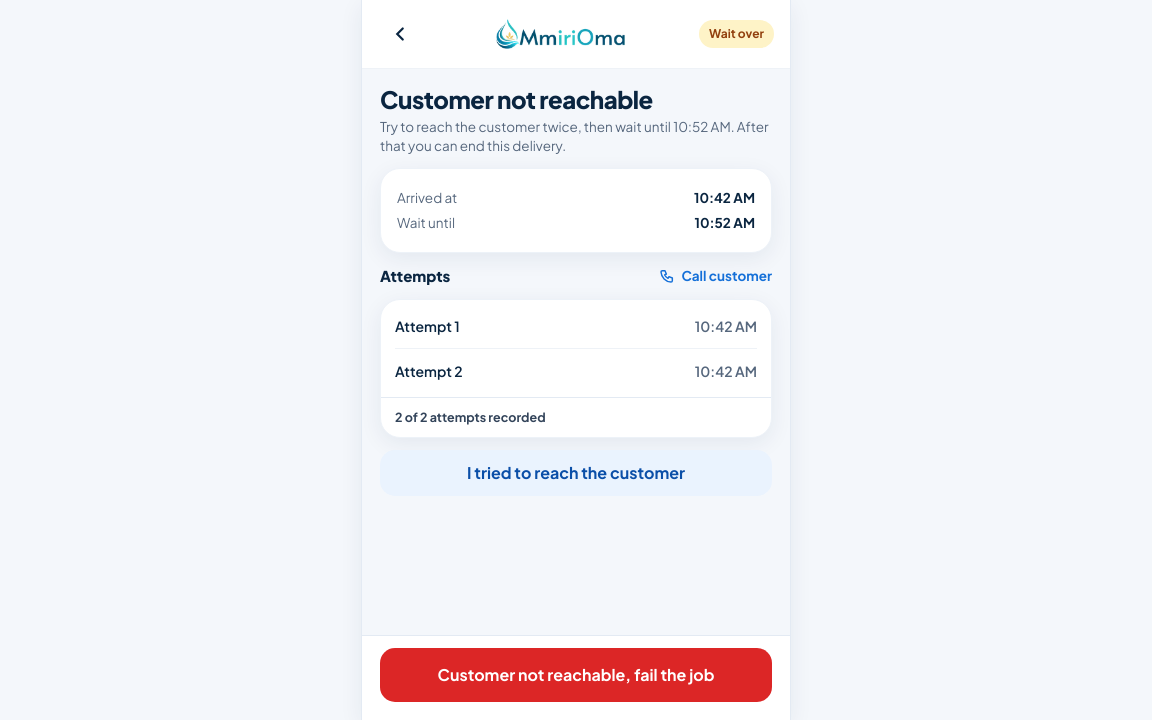
Scenario: Customer not reachable (U3) › goes back from the sheet without failing the job
What coordinates should you click on to do the following:
click the button "Customer not reachable, fail the job"
I would click on:
 (576, 675)
Its box is [380,648,772,702].
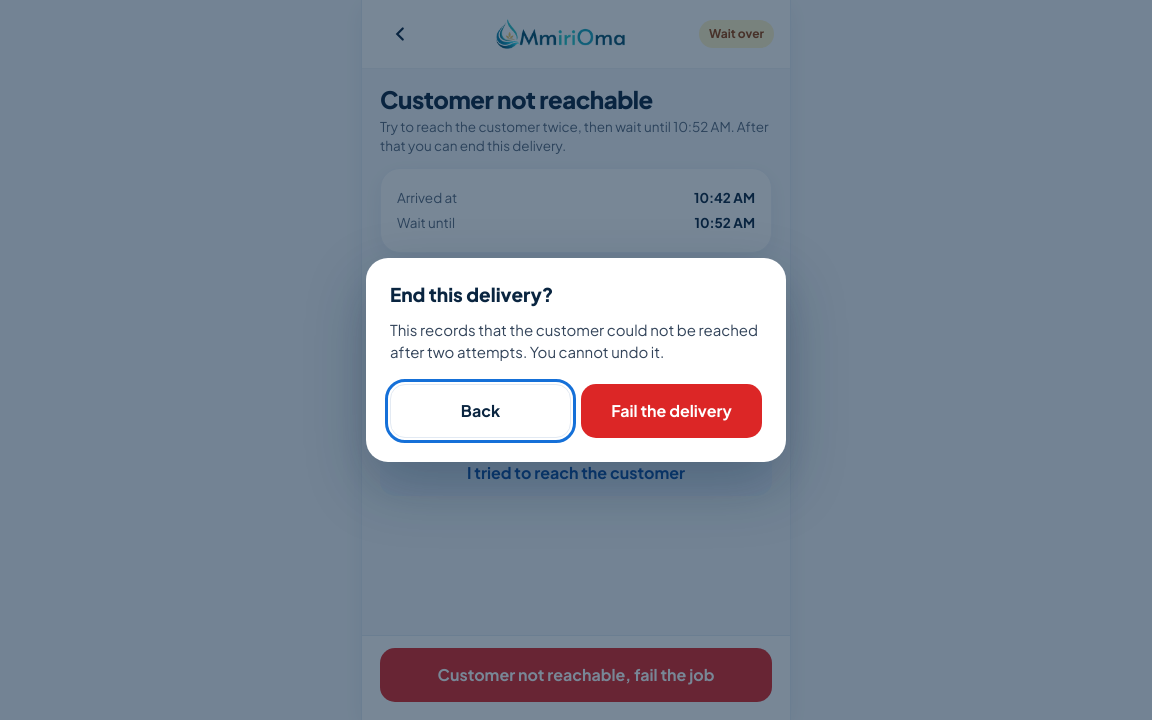
What coordinates should you click on to do the following:
click the button "Back"
I would click on:
 (480, 411)
Its box is [390,384,571,438].
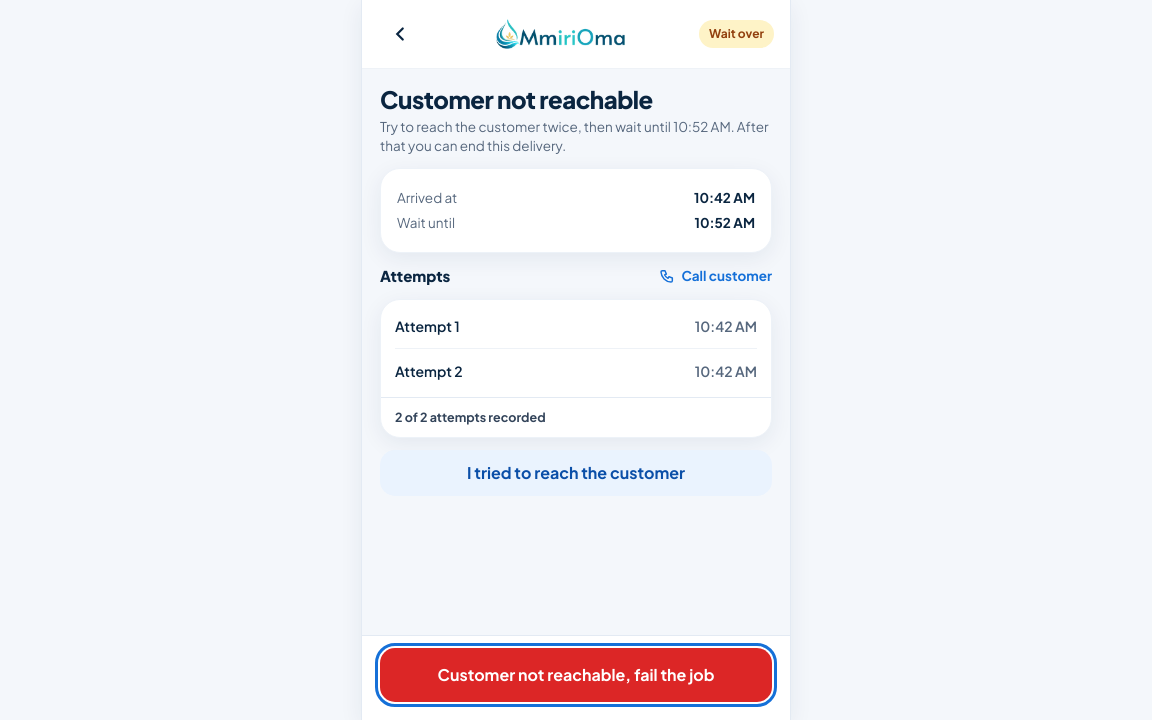
Expected: the dialog is gone
